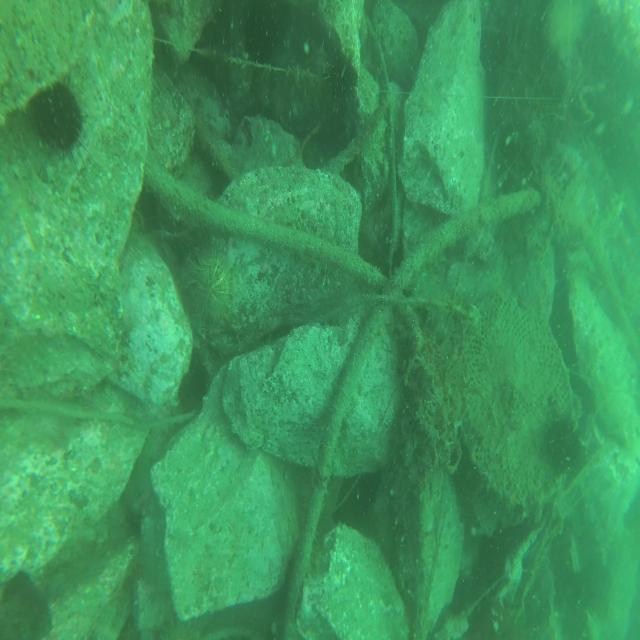echinus: (187, 250, 234, 330), (31, 79, 81, 153), (549, 416, 579, 464)
